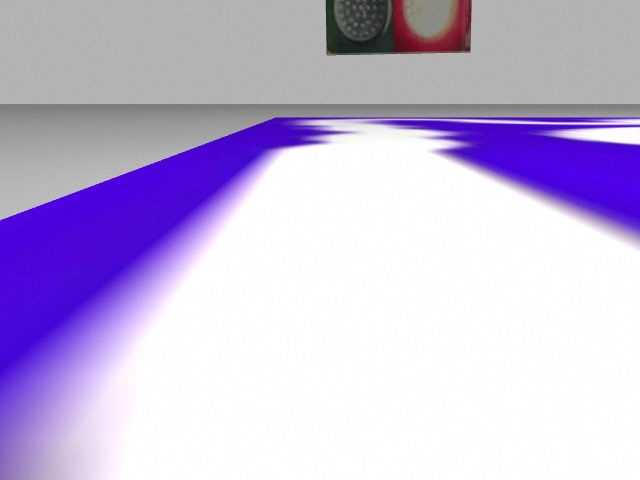red: (393, 1, 472, 52)
